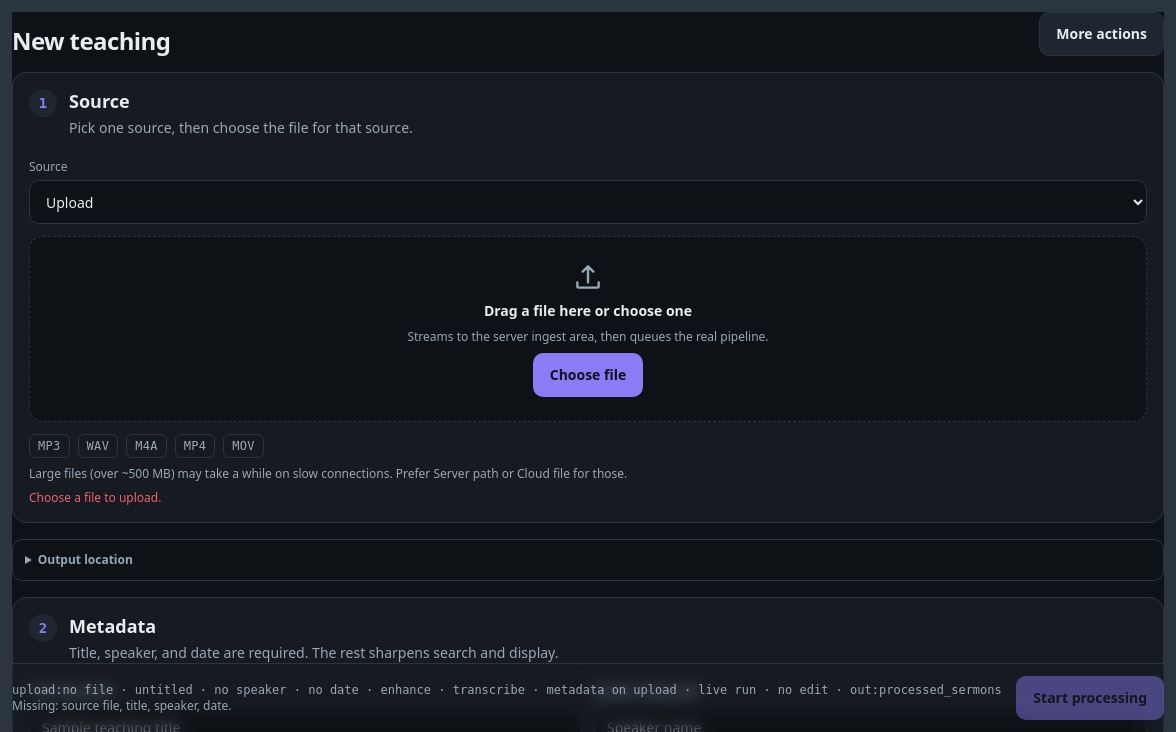
Test: NewSermon source options › keeps reset in the header overflow menu
The image size is (1176, 732).
Expected: the button "Reset" is not shown
Click the button "More actions" at (1102, 34), box [1039,12,1164,56]
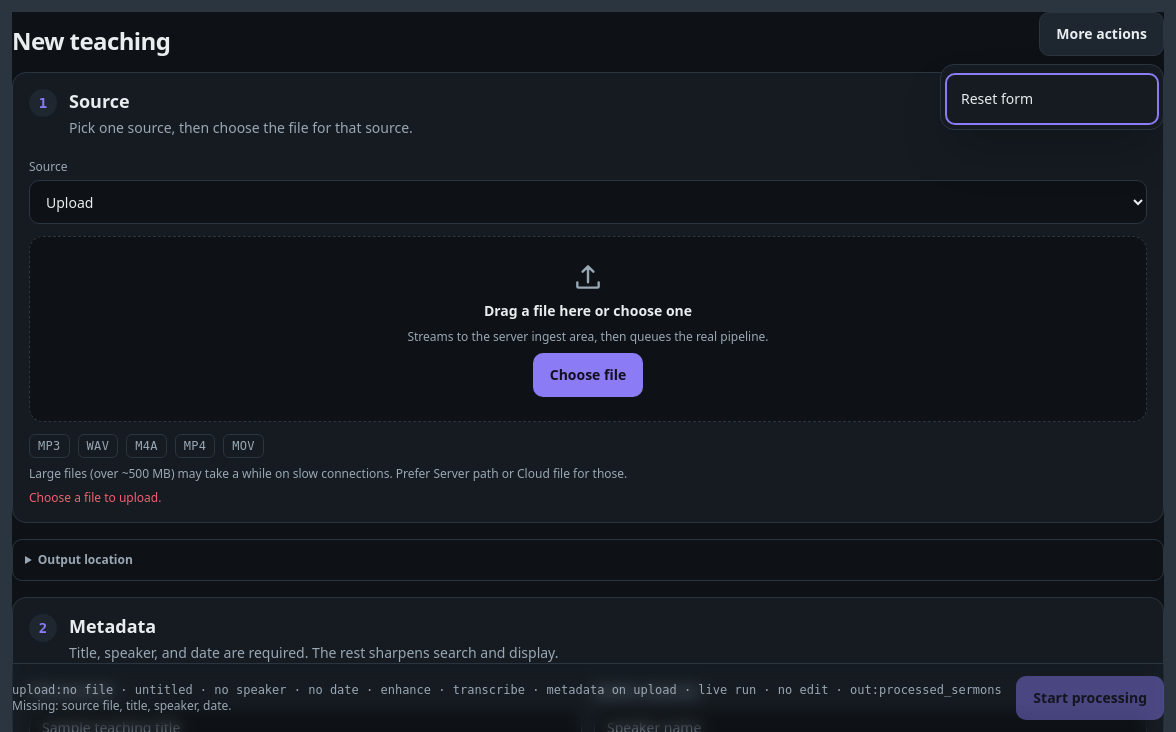
Now the menu item "Reset form" is shown, box [949,77,1155,121]
